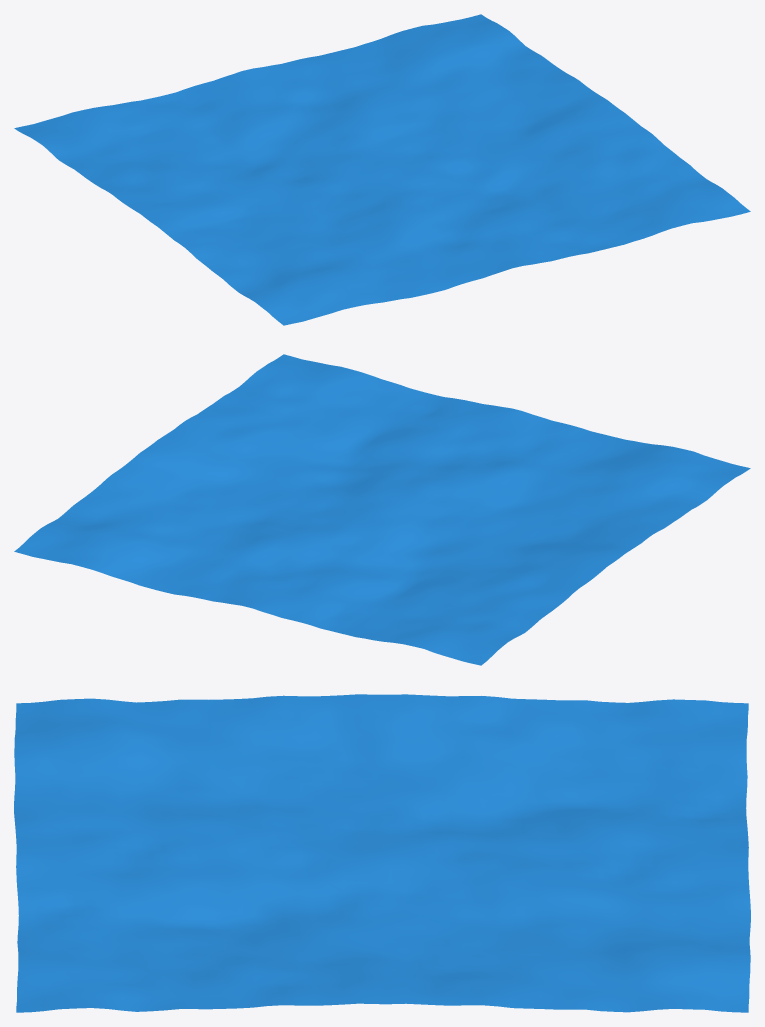
The model's file is ocean5.fbx.
3 renders of one model, top to bottom at view 1: azimuth 30°, elevation 25°; view 2: azimuth 150°, elevation 25°; view 3: azimuth 270°, elevation 25°, orthographic. The views are drawn at different scales.
Visible parts, largest first — view 1: ocean4; view 2: ocean4; view 3: ocean4.
Part boxes in pixels (x1,y1,x2,y2): ocean4: (14,14,750,325); ocean4: (14,354,750,665); ocean4: (14,694,750,1012).
Bounding box in the file's own units: 33.21 × 1 × 33.34.
